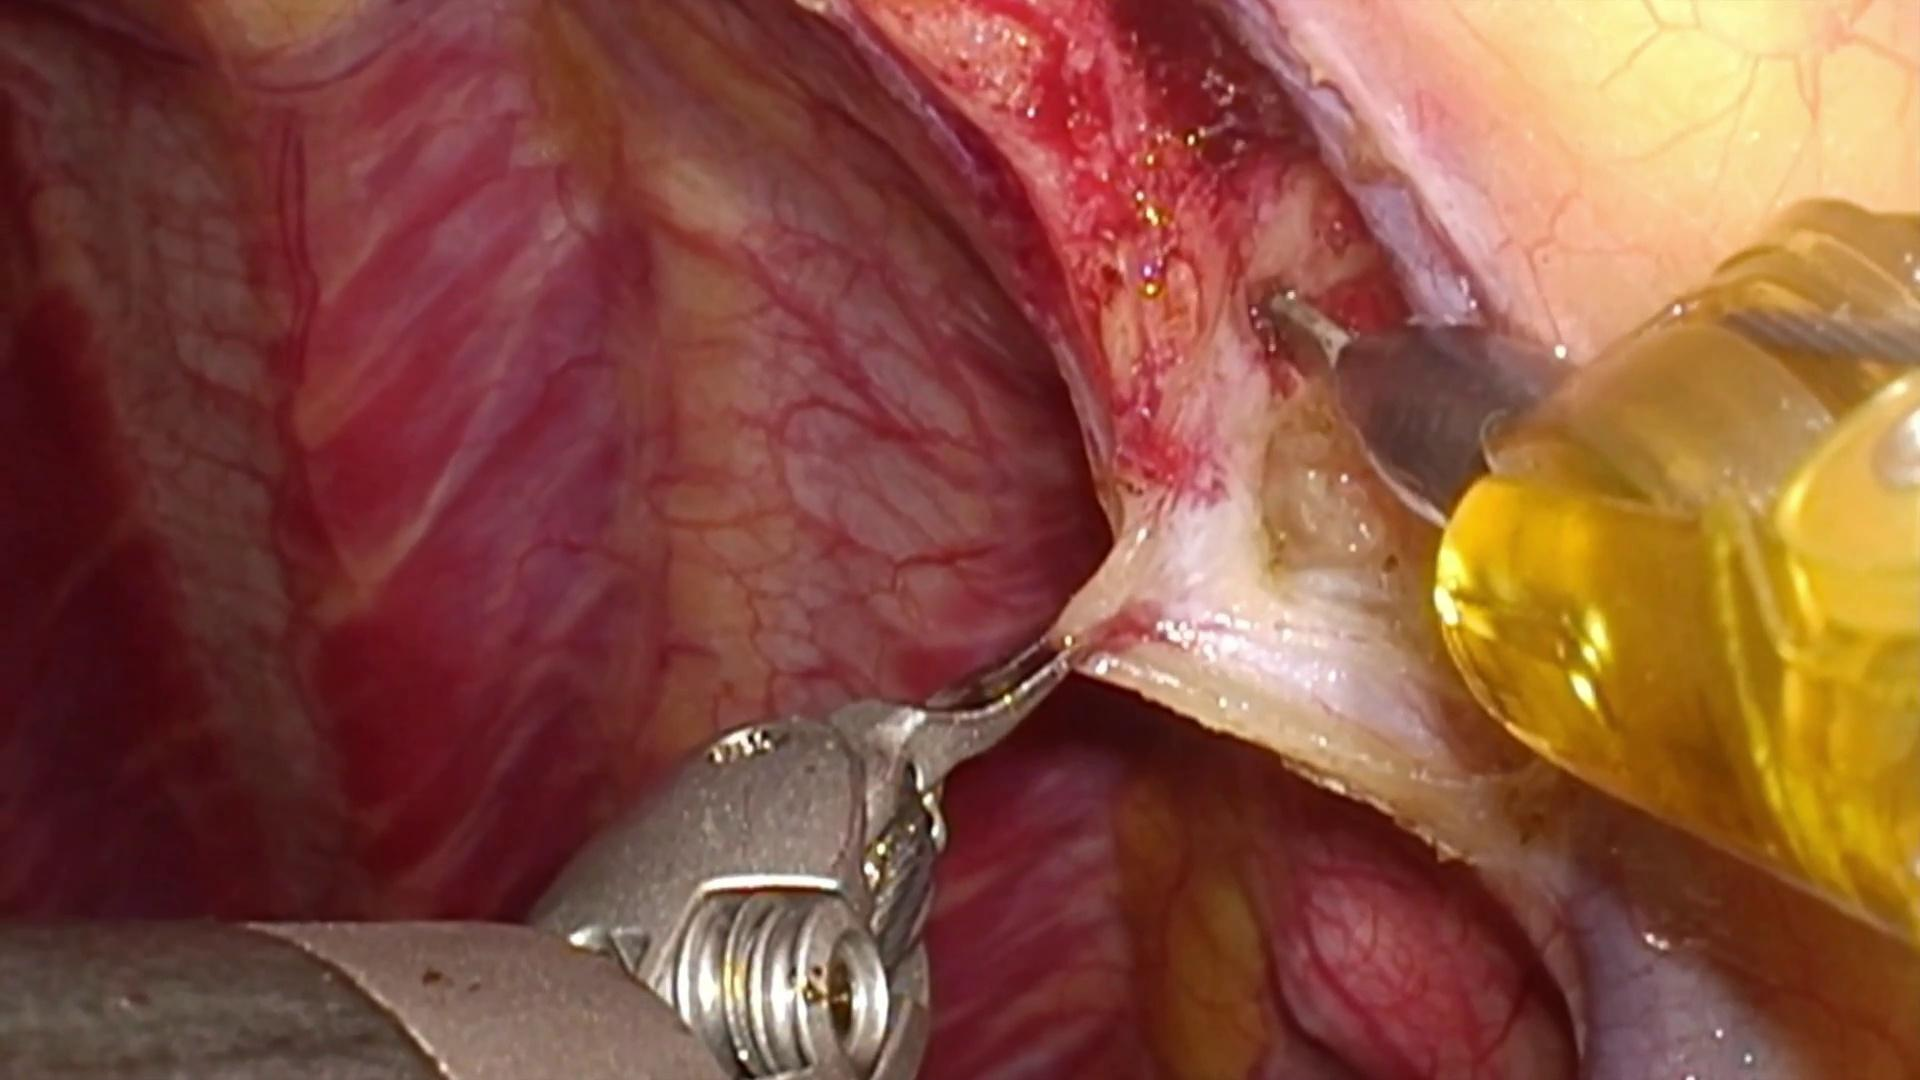Cautery_Spatula: (1262, 286, 1576, 535)
Debakey: (825, 604, 1101, 828)
